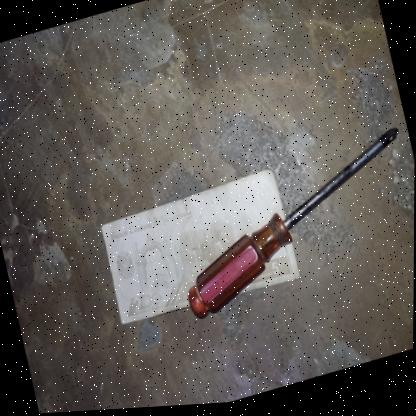five-back-vef: (97, 169, 302, 332)
